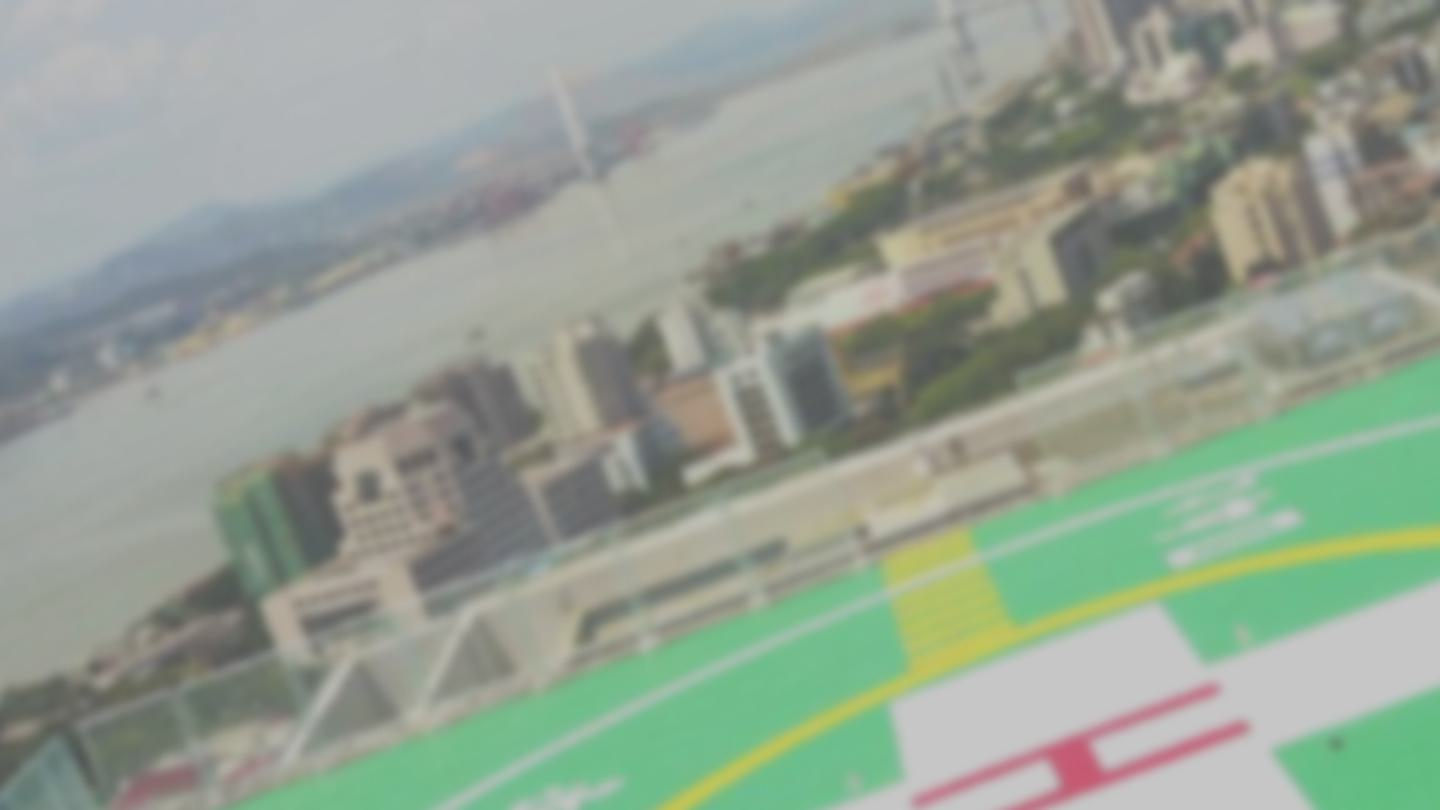Apron: (750, 520, 1440, 810)
